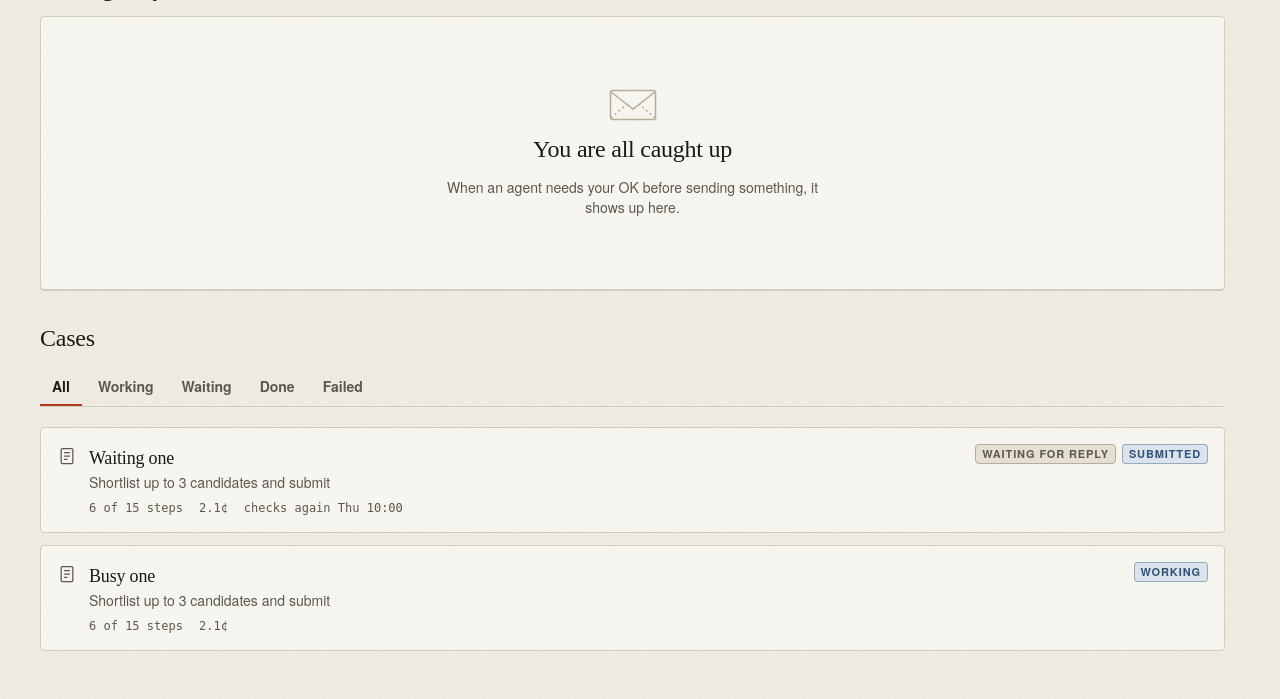
Test: AgentsPage cases › Waiting filter keeps only waiting cases
(page scrolled)
Expected: the link "Busy one" is shown, [89, 566, 155, 586]
What coordinates should you click on to do the following:
click the tab "Waiting"
I would click on:
 (207, 386)
Its box is [170, 366, 244, 406].
(page scrolled)
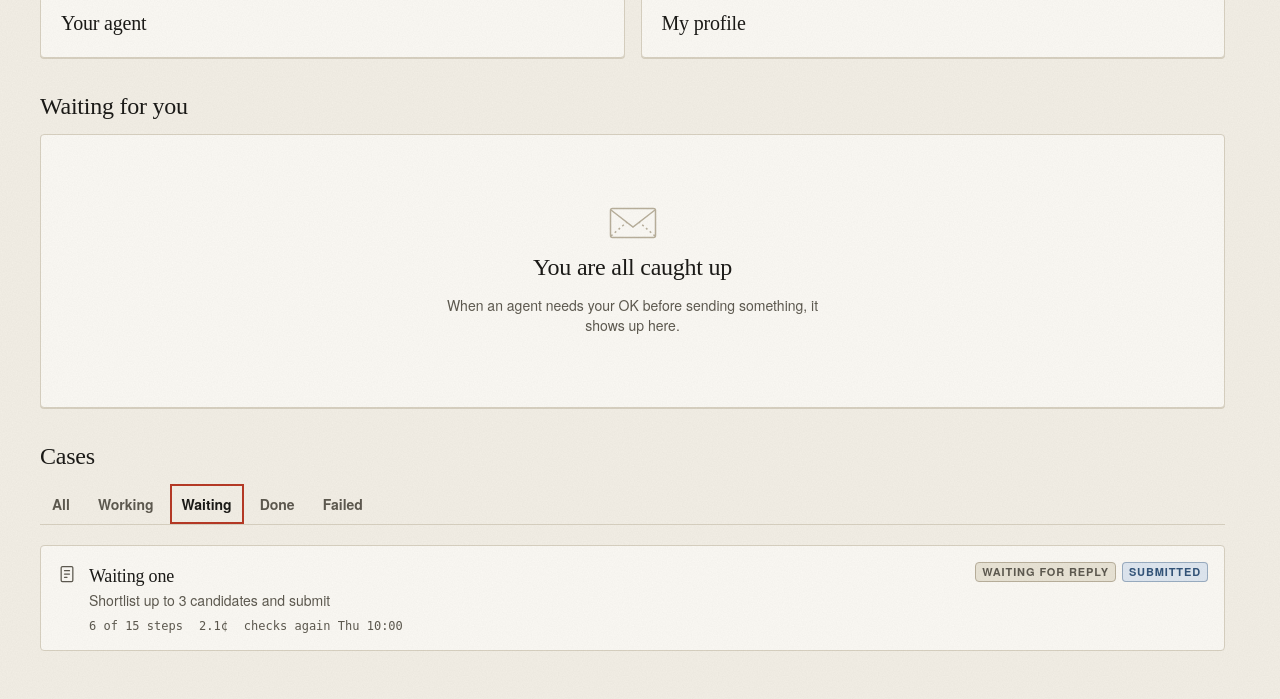
Expected: the link "Waiting one" is shown, [89, 566, 174, 586]
Result: the link "Busy one" is gone
